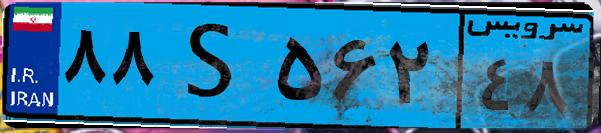2: (385, 28, 445, 110)
4: (475, 38, 525, 113)
5: (270, 28, 330, 110)
6: (330, 28, 385, 110)
8: (57, 26, 110, 100), (525, 38, 570, 115), (110, 28, 158, 98)
S: (158, 12, 270, 120)
